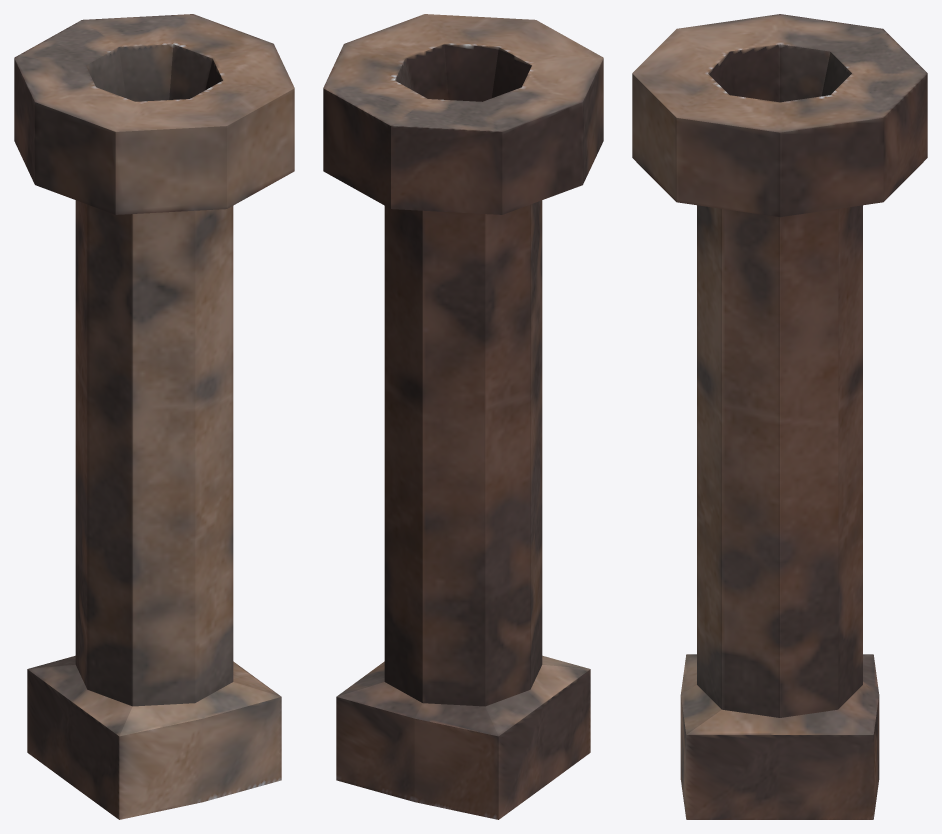
File: SM_Long_Bolt.FBX
3 views of the same model, side by side, from view 1: azimuth 30°, elevation 25°; view 2: azimuth 150°, elevation 25°; view 3: azimuth 270°, elevation 25° (orthographic).
Visible parts, largest first — view 1: SM_Long_Bolt; view 2: SM_Long_Bolt; view 3: SM_Long_Bolt.
Boxes of the visible parts, box(x1,y1,x2,y2) form: SM_Long_Bolt: box(14, 14, 294, 819); SM_Long_Bolt: box(323, 14, 603, 819); SM_Long_Bolt: box(632, 14, 927, 819).
Size of the model in its own units: 2.75 by 2.9 by 7.63.
